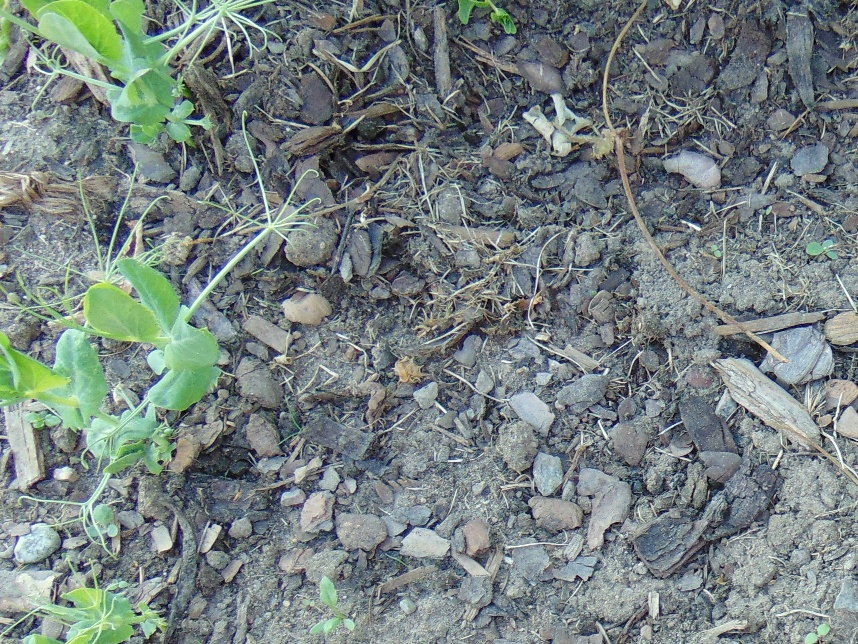crop: (2, 177, 311, 541), (1, 1, 271, 150), (15, 556, 171, 644), (307, 576, 354, 638), (456, 1, 521, 34)
